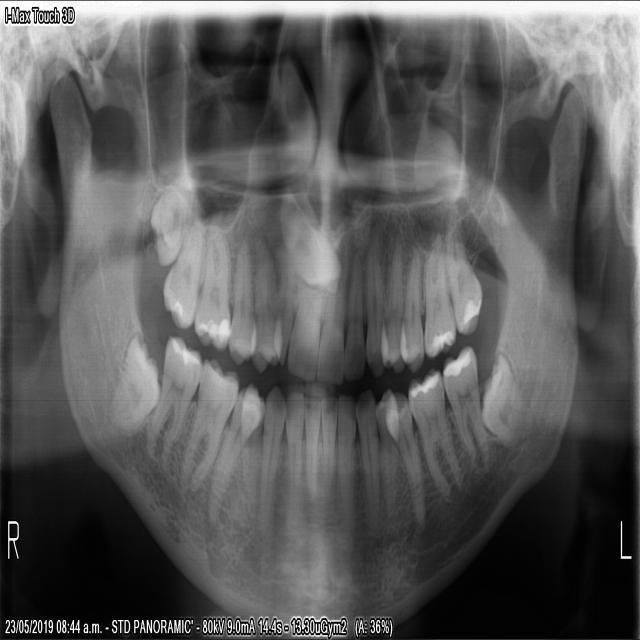LCD: (372, 382, 397, 526)
LCU: (362, 269, 384, 379)
LID: (354, 386, 380, 533), (335, 390, 354, 518), (321, 393, 336, 494)
LIU: (315, 290, 345, 384), (341, 268, 365, 382)
LMD: (441, 340, 491, 465), (480, 348, 532, 458)
LMU: (442, 229, 480, 334), (420, 250, 455, 358)
LPMD: (404, 372, 465, 501), (384, 391, 426, 522)
LPMU: (379, 259, 404, 375), (397, 263, 423, 373)
RCD: (259, 382, 285, 513)
RCU: (249, 235, 281, 373)
RID: (302, 388, 321, 497), (284, 388, 303, 489)
RIU: (284, 275, 323, 386), (271, 257, 294, 366)
RMD: (144, 333, 202, 471), (114, 330, 161, 435)
RMU: (159, 225, 208, 326), (147, 175, 193, 265)
RPMD: (176, 348, 240, 490), (215, 379, 263, 477)
RPMU: (190, 230, 230, 350), (226, 236, 254, 368)
